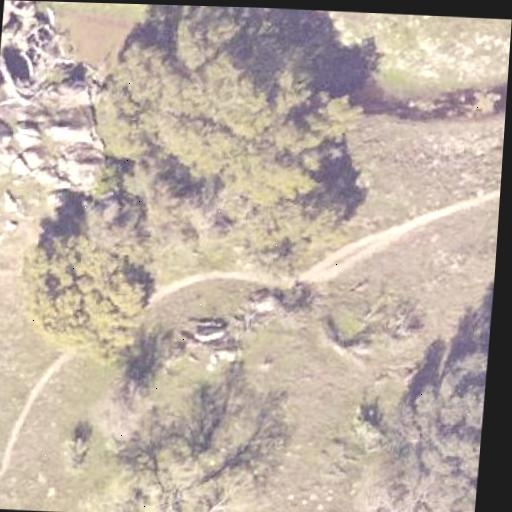tree-top: (80, 3, 361, 220), (336, 340, 488, 512), (15, 221, 158, 368), (86, 427, 275, 512)
